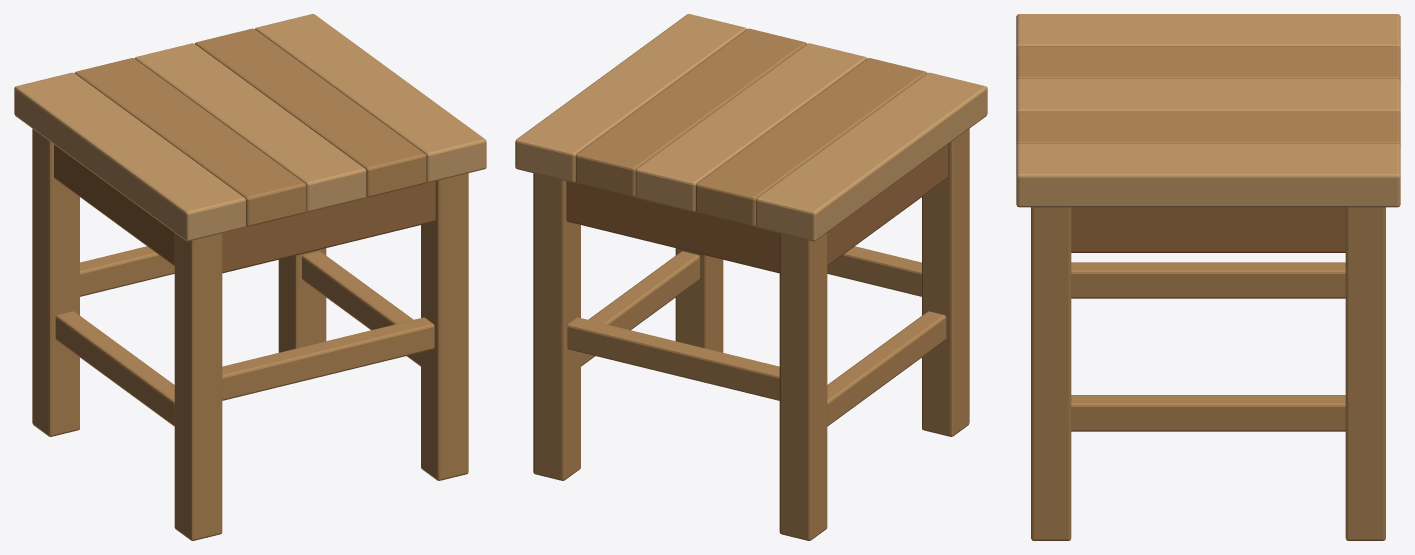
The model's file is chair-stool.glb.
The picture shows the model from 3 angles, left to right: view 1: azimuth 30°, elevation 25°; view 2: azimuth 150°, elevation 25°; view 3: azimuth 270°, elevation 25°; orthographic projection. The views are drawn at different scales.
Visible parts, largest first — view 1: Seat board 1, Leg.001, Leg.003, Leg, Seat board 4, Seat board 2, Seat board 5, Seat, Cross apron, Cross stretcher, Side stretcher, Side apron (+3 smaller); view 2: Seat board 1, Leg, Leg.002, Leg.001, Seat board 4, Seat board 2, Seat board 5, Seat, Cross apron.001, Cross stretcher.001, Side stretcher, Side apron (+3 smaller); view 3: Seat board 5, Leg.002, Leg.003, Seat board 1, Seat board 2, Seat, Seat board 4, Side apron.001, Side stretcher, Side stretcher.001.
Boxes of the visible parts, x1,y1,x2,y2 form: Seat board 1: (14, 72, 245, 241); Leg.001: (174, 233, 222, 540); Leg.003: (421, 173, 468, 480); Leg: (32, 129, 79, 436); Seat board 4: (195, 28, 426, 197); Seat board 2: (75, 58, 306, 226); Seat board 5: (255, 14, 486, 182); Seat: (135, 43, 366, 211); Cross apron: (222, 181, 435, 273); Cross stretcher: (222, 317, 434, 400); Side stretcher: (55, 311, 174, 426); Side apron: (54, 144, 174, 265); Seat board 1: (756, 72, 987, 241); Leg: (779, 233, 827, 540); Leg.002: (533, 173, 580, 480); Leg.001: (922, 129, 969, 436); Seat board 4: (575, 28, 806, 197); Seat board 2: (695, 58, 926, 226); Seat board 5: (515, 14, 746, 182); Seat: (635, 43, 866, 211); Cross apron.001: (566, 181, 779, 273); Cross stretcher.001: (567, 317, 779, 400); Side stretcher: (827, 311, 946, 426); Side apron: (827, 144, 947, 265); Seat board 5: (1016, 144, 1400, 207); Leg.002: (1345, 207, 1385, 540); Leg.003: (1031, 207, 1071, 540); Seat board 1: (1016, 14, 1400, 48); Seat board 2: (1016, 46, 1400, 80); Seat: (1016, 79, 1400, 113); Seat board 4: (1016, 111, 1400, 145); Side apron.001: (1071, 207, 1345, 252); Side stretcher: (1071, 262, 1345, 298); Side stretcher.001: (1071, 395, 1345, 431).
Size of the model in its own units: 0.42 by 0.45 by 0.42.
